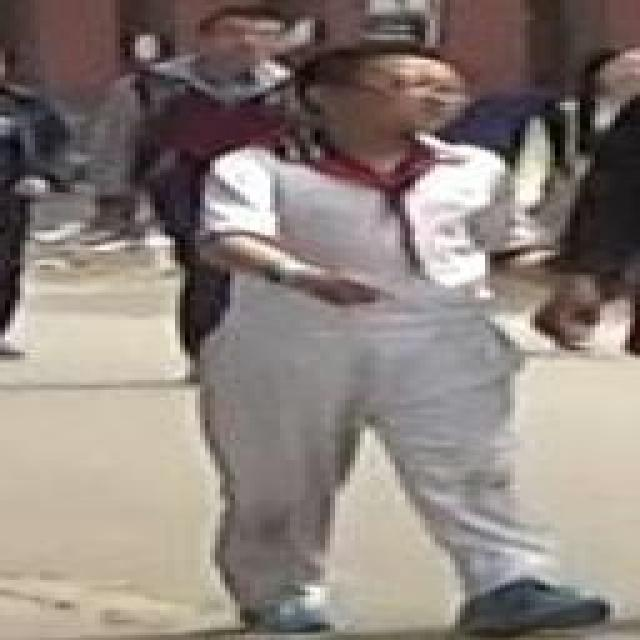adult: (86, 5, 298, 360), (540, 48, 640, 332), (0, 61, 78, 357)
child: (139, 49, 612, 640)
